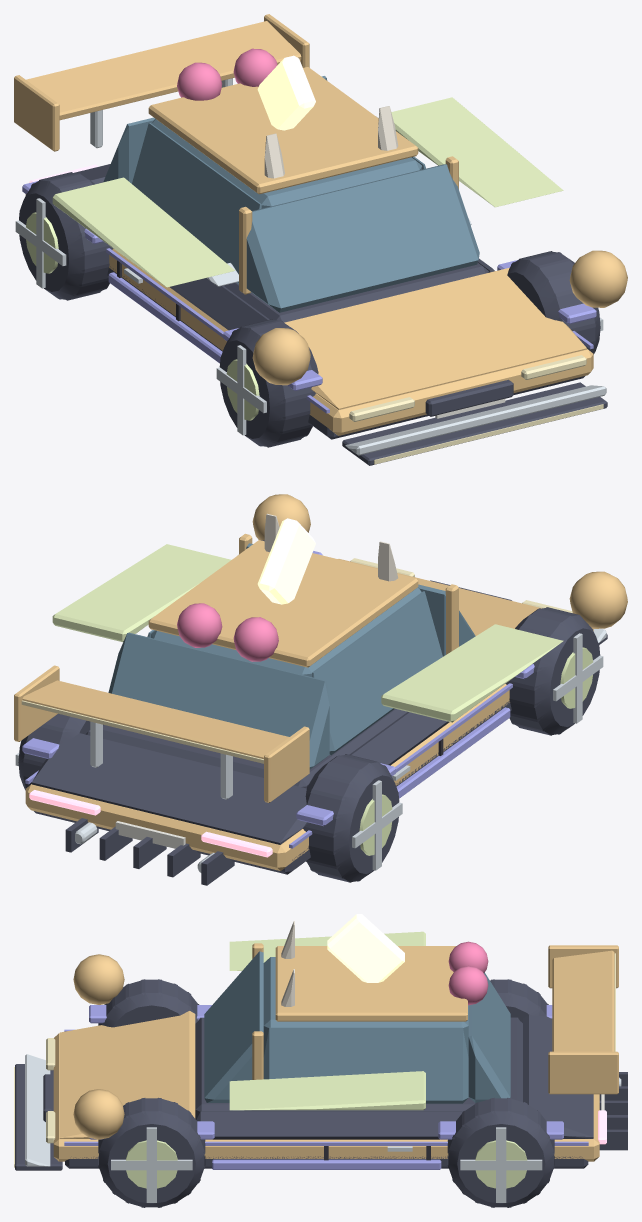
File: clockwork_crab.fbx
The picture shows the model from 3 angles, top to bottom: view 1: azimuth 30°, elevation 25°; view 2: azimuth 150°, elevation 25°; view 3: azimuth 270°, elevation 25°; orthographic projection. The views are drawn at different scales.
Visible parts, largest first — view 1: Body, Glass, Accent2, Trim, Wheel_RR, Wheel_FR, Accent, Accent3, Wheel_FL, Metal, Light3, Light (+3 smaller); view 2: Body, Glass, Trim, Accent2, Wheel_RR, Wheel_FR, Metal, Accent, Accent5, Light3, Wheel_RL, Metal2 (+4 smaller); view 3: Body, Glass, Trim, Accent2, Wheel_RL, Wheel_FL, Accent, Metal, Light3, Wheel_FR, Metal2, Accent3 (+4 smaller).
Part boxes in pixels (box(x1,y1,x2,y2)): Body: box(14, 14, 627, 435); Glass: box(103, 76, 479, 312); Accent2: box(52, 97, 563, 287); Trim: box(74, 164, 607, 465); Wheel_RR: box(19, 172, 113, 300); Wheel_FR: box(219, 319, 318, 447); Accent: box(22, 181, 596, 413); Accent3: box(207, 218, 606, 455); Wheel_FL: box(507, 251, 600, 354); Metal: box(15, 78, 603, 435); Light3: box(257, 55, 315, 130); Light: box(349, 355, 603, 464); Body: box(14, 494, 627, 870); Glass: box(108, 543, 475, 769); Trim: box(32, 580, 607, 885); Accent2: box(52, 544, 563, 722); Wheel_RR: box(303, 754, 399, 882); Wheel_FR: box(505, 607, 600, 735); Metal: box(15, 554, 603, 872); Accent: box(22, 551, 592, 848); Accent5: box(177, 603, 278, 661); Light3: box(257, 518, 315, 604); Wheel_RL: box(18, 713, 90, 790); Metal2: box(359, 647, 593, 855); Body: box(53, 943, 618, 1161); Glass: box(204, 951, 510, 1103); Trim: box(15, 1015, 627, 1170); Accent2: box(229, 931, 425, 1110); Wheel_RL: box(447, 1097, 554, 1207); Wheel_FL: box(98, 1097, 205, 1207); Accent: box(64, 1005, 588, 1169); Metal: box(111, 1077, 621, 1202); Light3: box(327, 914, 404, 982); Wheel_FR: box(98, 979, 199, 1027); Metal2: box(126, 1140, 527, 1188); Accent3: box(25, 1054, 50, 1166).
Size of the model in its own units: 3.55 by 2.19 by 5.4.
